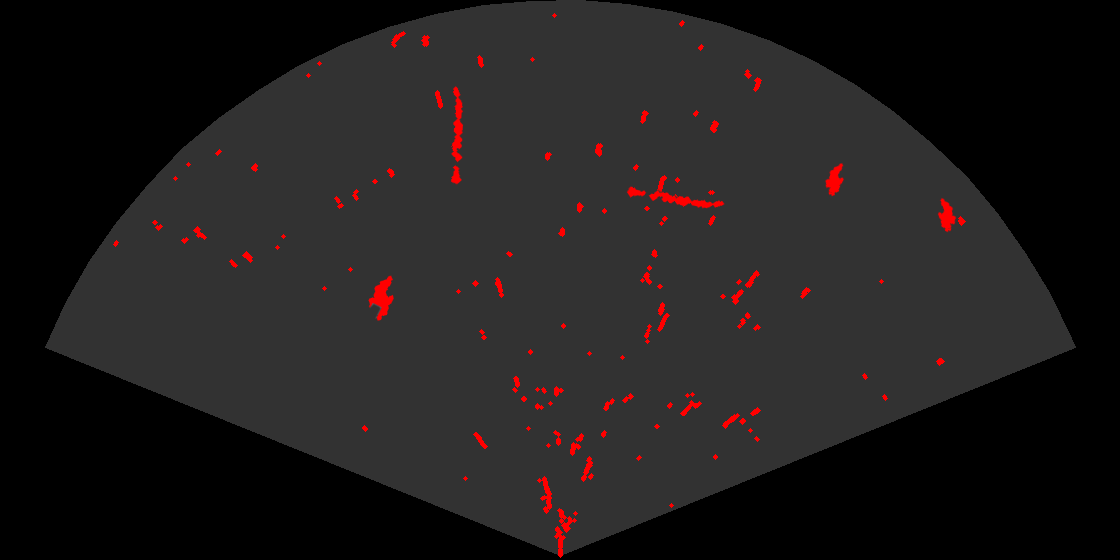AUV: (367, 274, 395, 322), (823, 162, 846, 198), (936, 197, 958, 234)
chain: (625, 185, 726, 210), (449, 85, 465, 186)
